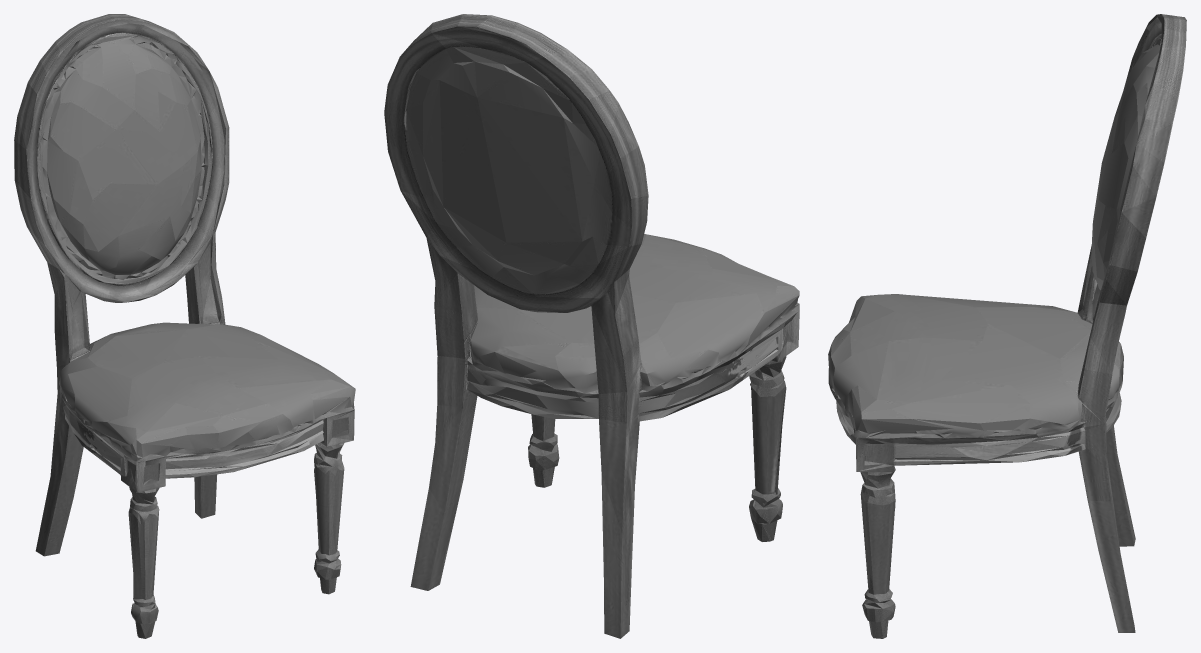
The model's file is oval.glb.
3 renders of one model, left to right at view 1: azimuth 30°, elevation 25°; view 2: azimuth 150°, elevation 25°; view 3: azimuth 270°, elevation 25°, orthographic. The views are drawn at different scales.
Parts seen in each view (by area): view 1: chair; view 2: chair; view 3: chair.
Part boxes in pixels (x1,y1,x2,y2): chair: [14, 14, 355, 638]; chair: [384, 14, 799, 638]; chair: [828, 14, 1186, 638].
Bounding box in the file's own units: 0.47 × 1 × 0.5791.
1 material, 1 textured.
